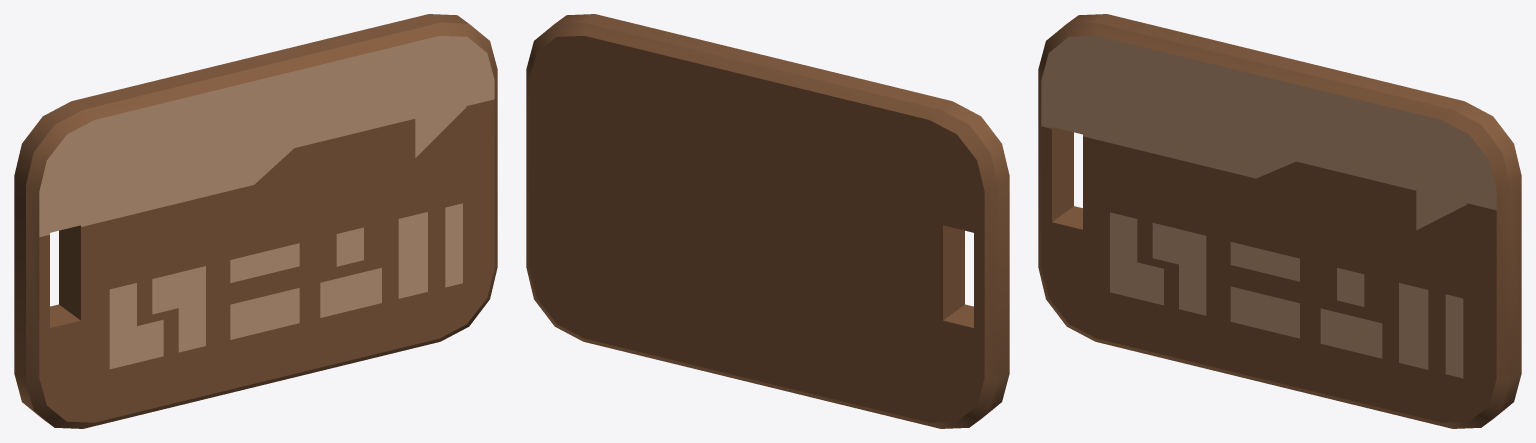
File: quaternius-ultimate-space-pickup-key-card-transformed.glb
3 renders of one model, left to right at view 1: azimuth 30°, elevation 25°; view 2: azimuth 150°, elevation 25°; view 3: azimuth 330°, elevation 25°, orthographic.
Parts seen in each view (by area): view 1: Pickup_KeyCard; view 2: Pickup_KeyCard; view 3: Pickup_KeyCard.
Boxes of the visible parts, x1=… form: Pickup_KeyCard: x1=14, y1=14, x2=497, y2=428; Pickup_KeyCard: x1=526, y1=14, x2=1009, y2=428; Pickup_KeyCard: x1=1038, y1=14, x2=1521, y2=428.
Size of the model in its own units: 1.04 by 0.6741 by 0.0876.
Materials: 1 (1 with a texture image).
